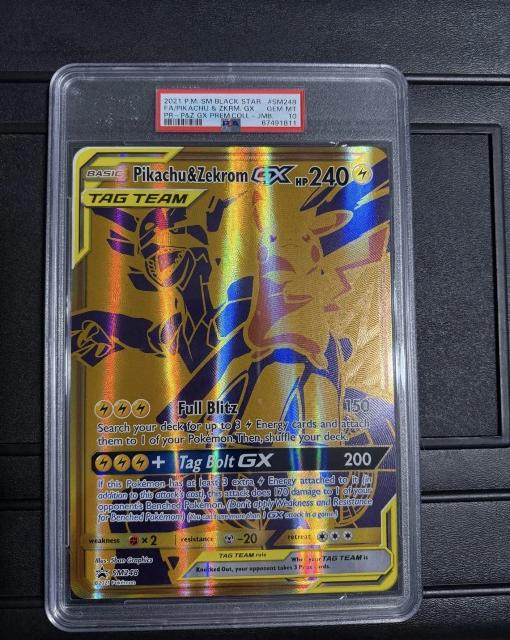Card: (67, 143, 404, 606)
Name: (131, 159, 295, 187)
